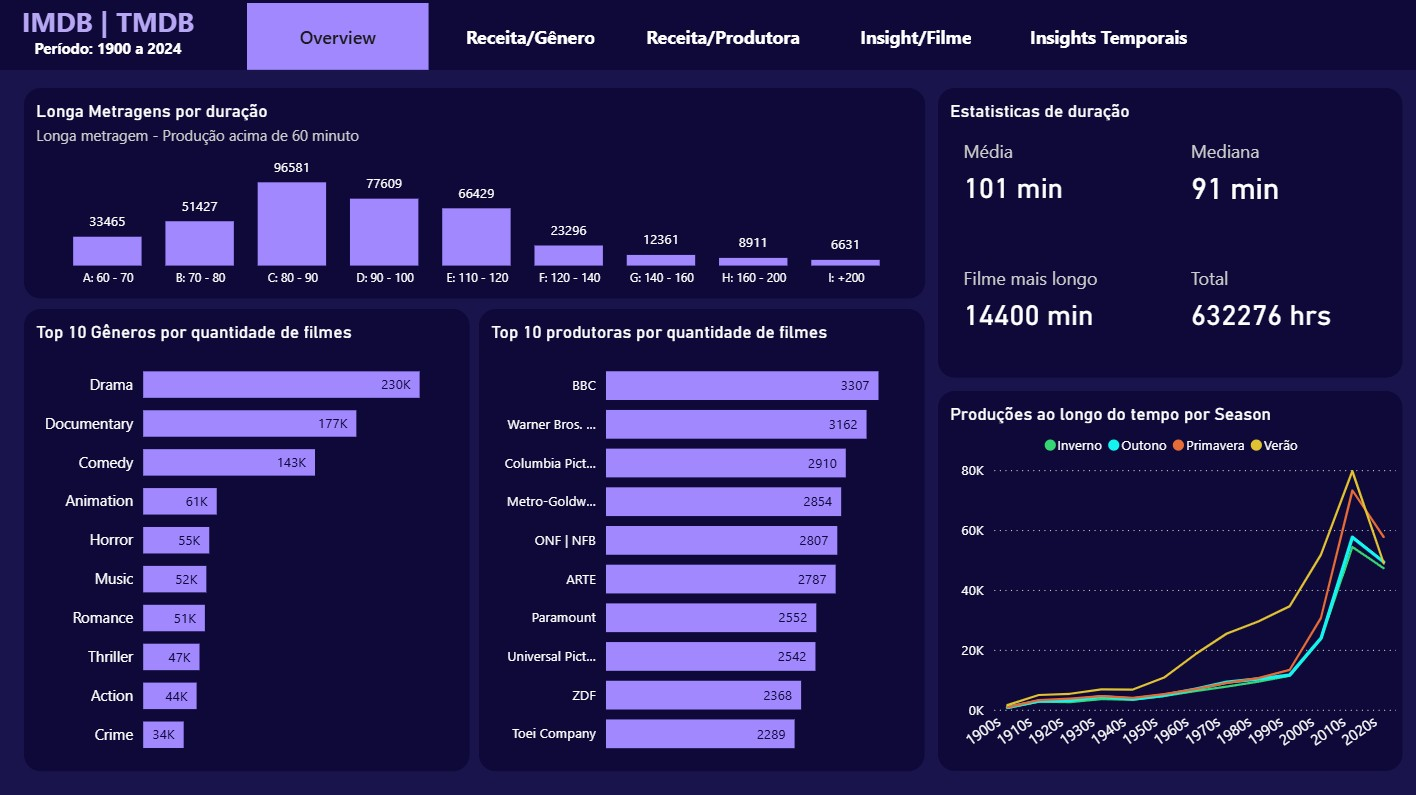

The dashboard page shown, as its layout file describes it:
{"tool":"powerbi","page":{"name":"Overview","canvas":[1280,720],"ordinal":0},"visuals":[{"type":"shape","box":[0,0,1280.2,65.5],"z":0},{"type":"pageNavigator","box":[224.4,5.4,855.6,60.1],"z":1000},{"type":"clusteredBarChart","title":"Top 10 Gêneros por quantidade de filmes","fields":{"Category":["genres_count.Topn"],"Y":["Sum(genres_count.count)"]},"box":[24.2,280.1,400,414.8],"z":2000},{"type":"clusteredBarChart","title":"Top 10 produtoras por quantidade de filmes","fields":{"Category":["companies_count.Topn"],"Y":["Sum(companies_count.count)"]},"box":[432.7,280.1,400.4,414.8],"z":3000},{"type":"columnChart","title":"Longa Metragens por duração","fields":{"Category":["duration_list.Faixa_Duracao"],"Y":["CountNonNull(duration_list.Faixa_Duracao)"]},"box":[24.2,81.7,808.9,189.4],"z":4000},{"type":"lineChart","title":"Produções ao longo do tempo por Season","fields":{"Category":["decade_by_season.decade"],"Y":["Sum(decade_by_season.Inverno)","Sum(decade_by_season.Outono)","Sum(decade_by_season.Primavera)","Sum(decade_by_season.Verão)"]},"box":[844.8,353.7,417.5,341.1],"z":5000},{"type":"textbox","box":[0,5,199.3,67.3],"z":6000},{"type":"cardVisual","title":"Estatisticas de duração","fields":{"Data":["Avg(duration_list.runtime)","Median(duration_list.runtime)1","Max(duration_list.runtime)2","duration_list.Total de Horas Filmadas"]},"box":[844.8,81.7,417.5,260.3],"z":7000}]}

Visuals, with their boxes in screenshot pixels (x1, y1, x2, y2), scaled from the page's 1280x720 canvas onto the 1416x795 screenshot:
shape: locate(0, 0, 1415, 72)
pageNavigator: locate(248, 6, 1195, 72)
"Top 10 Gêneros por quantidade de filmes" clusteredBarChart: locate(27, 309, 469, 767)
"Top 10 produtoras por quantidade de filmes" clusteredBarChart: locate(479, 309, 922, 767)
"Longa Metragens por duração" columnChart: locate(27, 90, 922, 299)
"Produções ao longo do tempo por Season" lineChart: locate(935, 391, 1396, 767)
textbox: locate(0, 6, 220, 80)
"Estatisticas de duração" cardVisual: locate(935, 90, 1396, 378)
